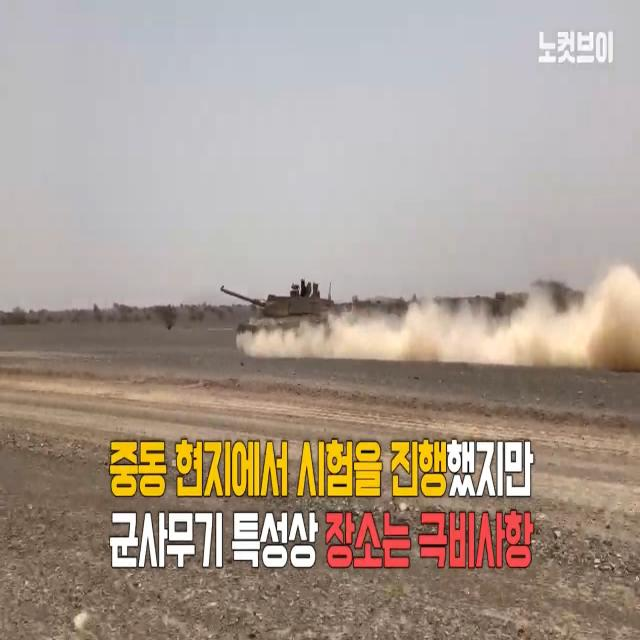korea tank: (217, 276, 349, 362)
